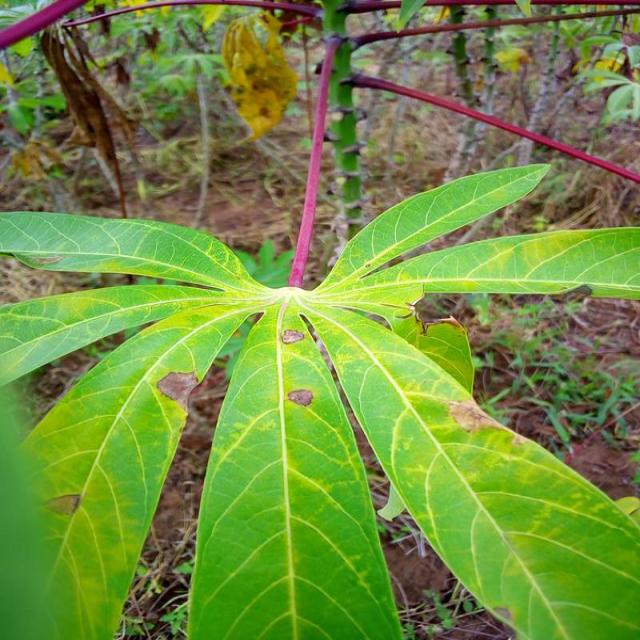cassava leaf: (0, 160, 638, 638), (186, 294, 404, 638)
